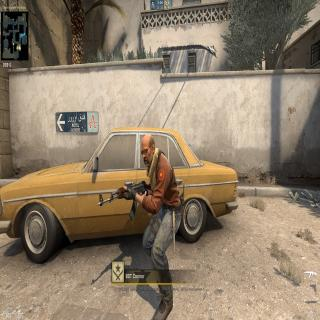T-Head: (140, 129, 157, 171)
